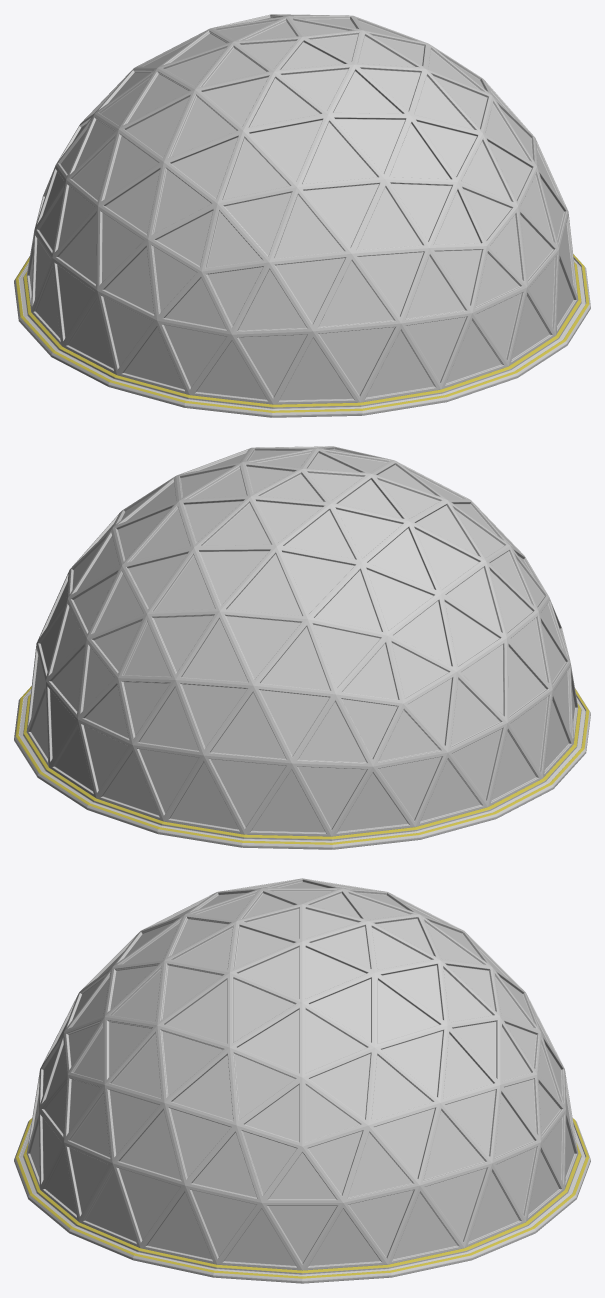
File: Glass Dome.fbx
3 renders of one model, top to bottom at view 1: azimuth 30°, elevation 25°; view 2: azimuth 150°, elevation 25°; view 3: azimuth 270°, elevation 25°, orthographic.
Parts seen in each view (by area): view 1: Icosphere001_2; view 2: Icosphere001_2; view 3: Icosphere001_2.
Boxes of the visible parts, x1=… form: Icosphere001_2: x1=14, y1=14, x2=590, y2=417; Icosphere001_2: x1=14, y1=446, x2=590, y2=849; Icosphere001_2: x1=14, y1=878, x2=590, y2=1283.
Size of the model in its own units: 4.13 by 2.04 by 4.13.
